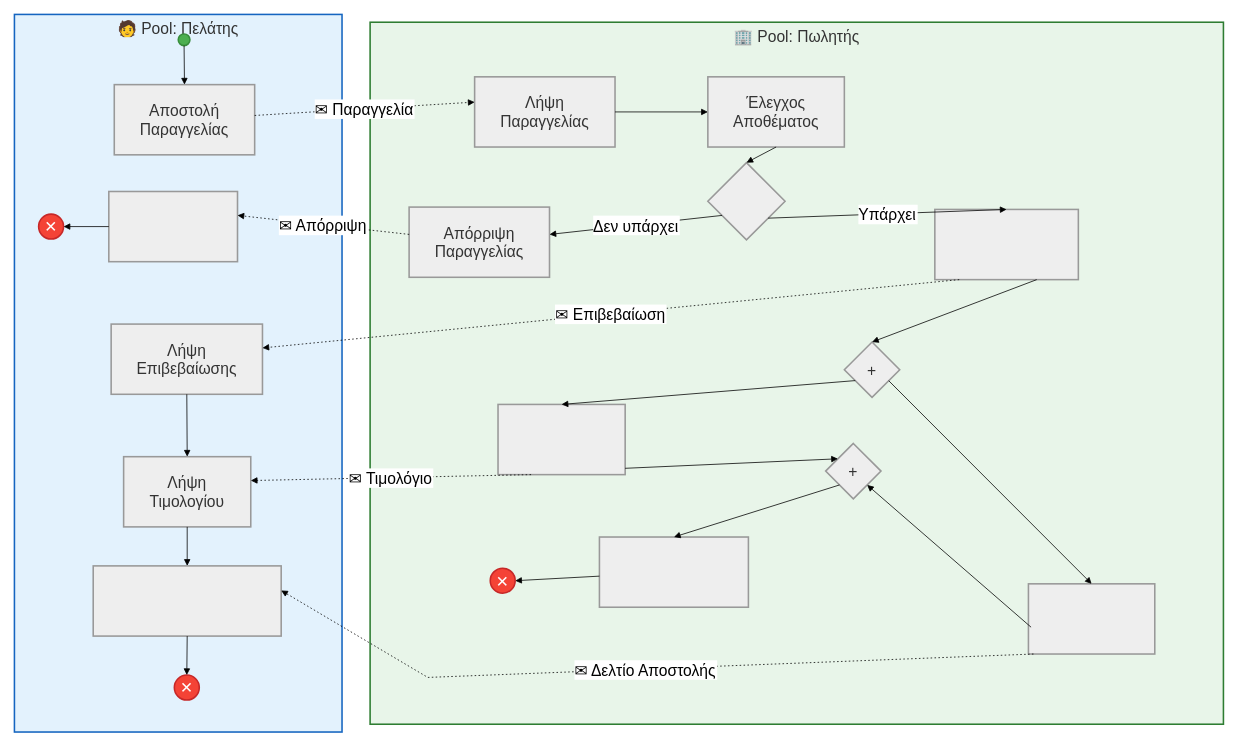
Some shapes in this 1237 by 746 pixel diagram are drawn without their labels. Here are the shapes that lost their labels. From the top down, the centre of each, then its label:
At [746,200]: "XOR".
At [173,226]: "Λήψη Απόρριψης".
At [1006,244]: "Επιβεβαίωση Παραγγελίας".
At [561,439]: "Αποστολή Τιμολογίου".
At [673,572]: "Αρχειοθέτηση Παραγγελίας".
At [187,600]: "Λήψη Δελτίου Αποστολής".
At [1091,618]: "Αποστολή Προϊόντων".
